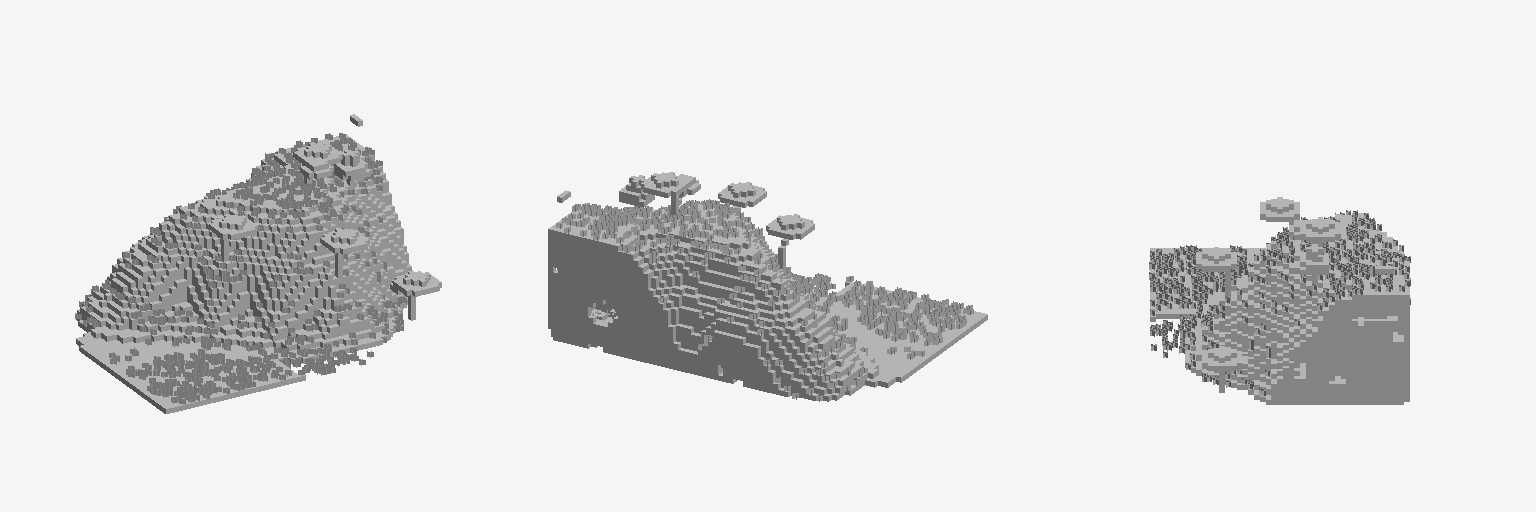
File: Mountain_0.obj
3 views of the same model, side by side, from view 1: azimuth 30°, elevation 25°; view 2: azimuth 150°, elevation 25°; view 3: azimuth 270°, elevation 25° (orthographic).
Size of the model in its own units: 62.05 by 28 by 45.26.